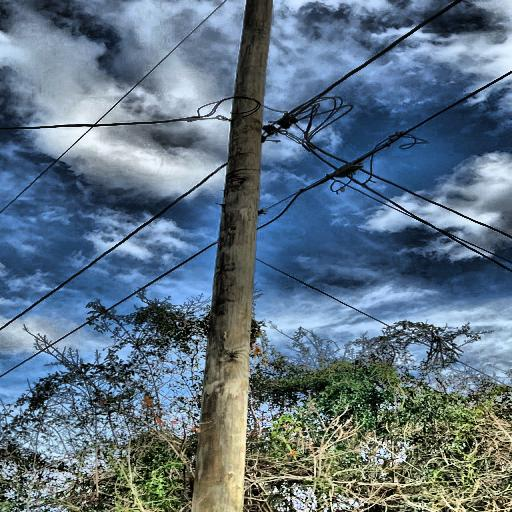pole: (163, 0, 281, 512)
